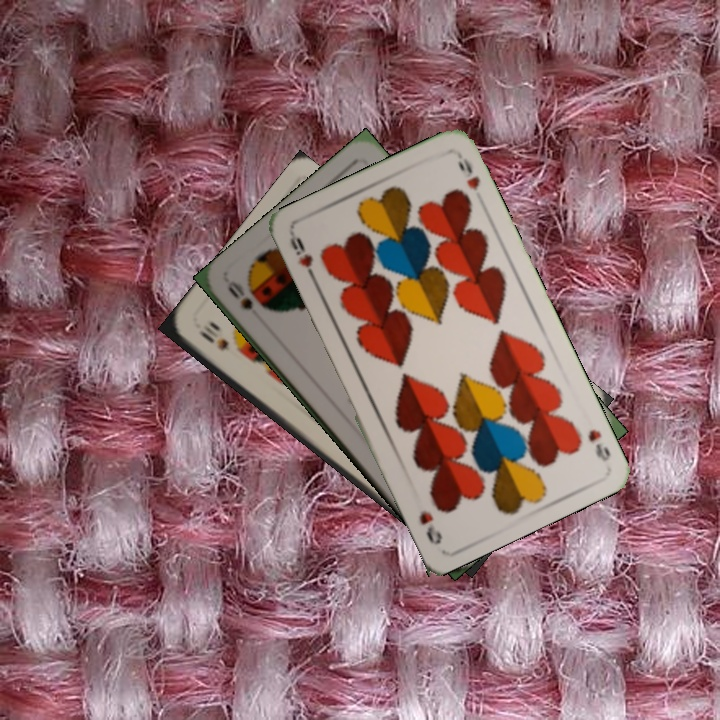H9: (285, 230, 320, 286), (584, 425, 614, 464)
S10: (194, 321, 231, 354)
SO: (223, 277, 256, 313)
